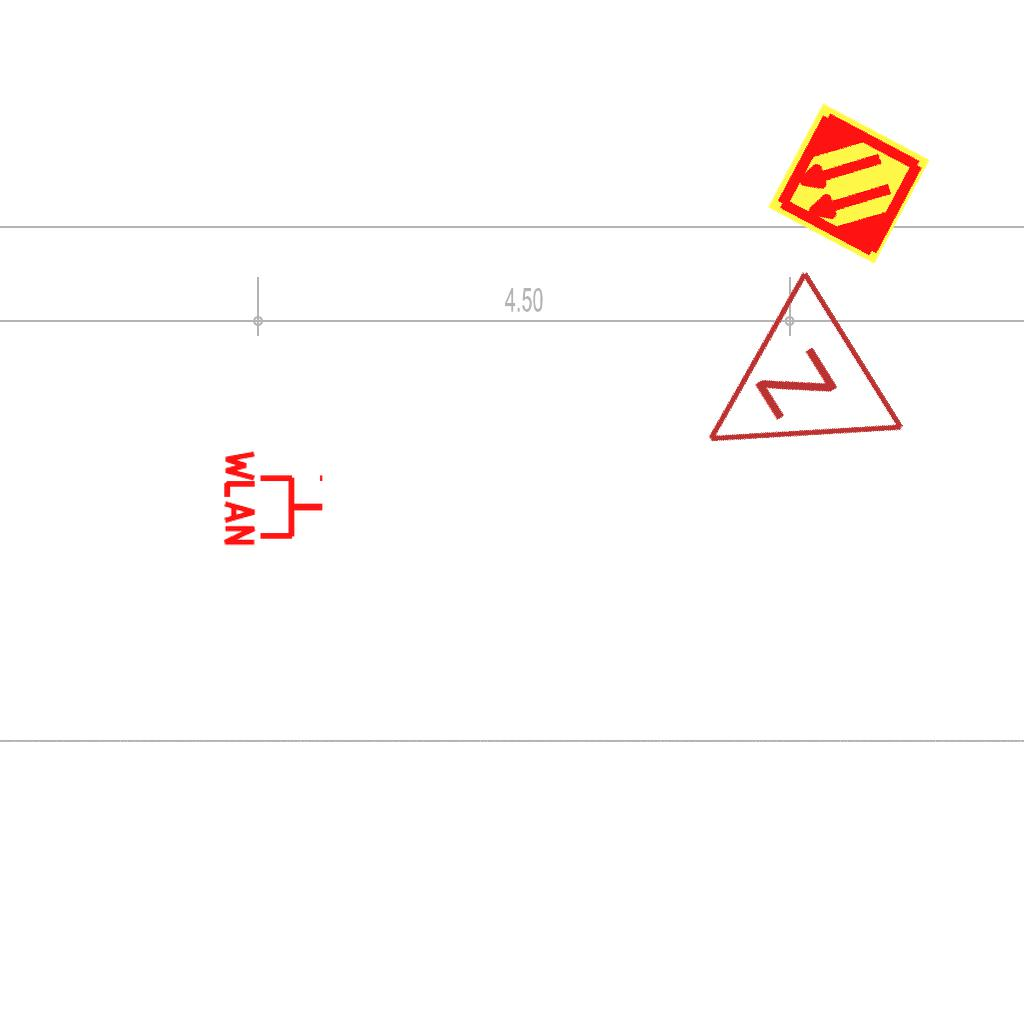ASR_Ansaugrauchmelder: (763, 98, 934, 269)
WLAN: (222, 446, 327, 550)
Zimmersignalleuchte: (647, 259, 921, 533)
